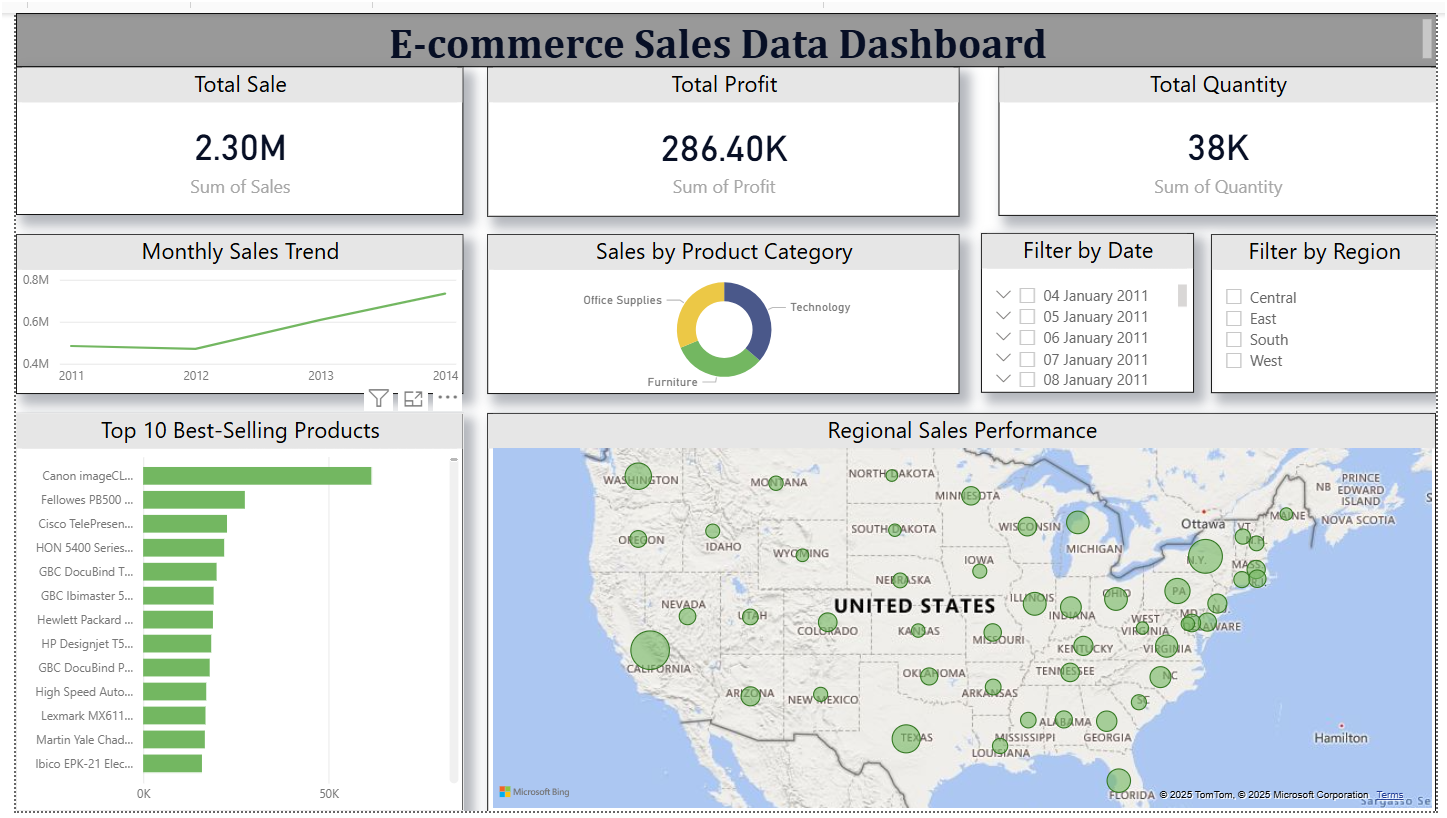

This screenshot's page, from the dashboard's own definition file:
{"tool":"powerbi","page":{"name":"Main","canvas":[1280,720],"ordinal":0},"visuals":[{"type":"textbox","box":[0,0,1280.5,48.8],"z":0},{"type":"card","title":" Total Sale","fields":{"Values":["Sum(orders.Sales)"]},"box":[0,48.8,403.2,133.6],"z":1000},{"type":"card","title":"Total Profit","fields":{"Values":["Sum(orders.Profit)"]},"box":[424.8,48.5,425.9,135.2],"z":2000},{"type":"card","title":"Total Quantity","fields":{"Values":["Sum(orders.Quantity)"]},"box":[870,48.5,410.7,135.4],"z":3000},{"type":"lineChart","title":"Monthly Sales Trend","fields":{"Category":["orders.Order Date.Variation.Date Hierarchy.Year","orders.Order Date.Variation.Date Hierarchy.Quarter","orders.Order Date.Variation.Date Hierarchy.Month","orders.Order Date.Variation.Date Hierarchy.Day"],"Y":["Sum(orders.Sales)"]},"box":[0,199.9,403.2,144.1],"z":3001},{"type":"donutChart","title":"Sales by Product Category","fields":{"Category":["orders.Category"],"Y":["Sum(orders.Sales)"]},"box":[424.8,199.4,425.9,144.2],"z":3002},{"type":"clusteredBarChart","title":"Top 10 Best-Selling Products","fields":{"Category":["orders.Product Name"],"Y":["Sum(orders.Sales)"]},"box":[0,360.2,403.2,360.2],"z":3003},{"type":"map","title":"Regional Sales Performance","fields":{"Size":["Sum(orders.Sales)"],"Category":["orders.State"]},"box":[425.3,360.2,855.2,360.2],"z":3004},{"type":"slicer","title":"Filter by Date","fields":{"Values":["orders.Order Date","orders.Region"]},"box":[870.3,198.7,191.7,144.1],"z":3005},{"type":"slicer","title":"Filter by Region","fields":{"Values":["orders.Region"]},"box":[1077.1,199.9,203.3,142.9],"z":3006}]}

Visuals, with their boxes in screenshot pixels (x1, y1, x2, y2), scaled from the page's 1280x720 canvas onto the 1447x818 screenshot:
textbox: [x1=0, y1=0, x2=1446, y2=55]
" Total Sale" card: [x1=0, y1=55, x2=456, y2=207]
"Total Profit" card: [x1=480, y1=55, x2=962, y2=209]
"Total Quantity" card: [x1=984, y1=55, x2=1446, y2=209]
"Monthly Sales Trend" lineChart: [x1=0, y1=227, x2=456, y2=391]
"Sales by Product Category" donutChart: [x1=480, y1=227, x2=962, y2=390]
"Top 10 Best-Selling Products" clusteredBarChart: [x1=0, y1=409, x2=456, y2=817]
"Regional Sales Performance" map: [x1=481, y1=409, x2=1446, y2=817]
"Filter by Date" slicer: [x1=984, y1=226, x2=1201, y2=389]
"Filter by Region" slicer: [x1=1218, y1=227, x2=1446, y2=389]
